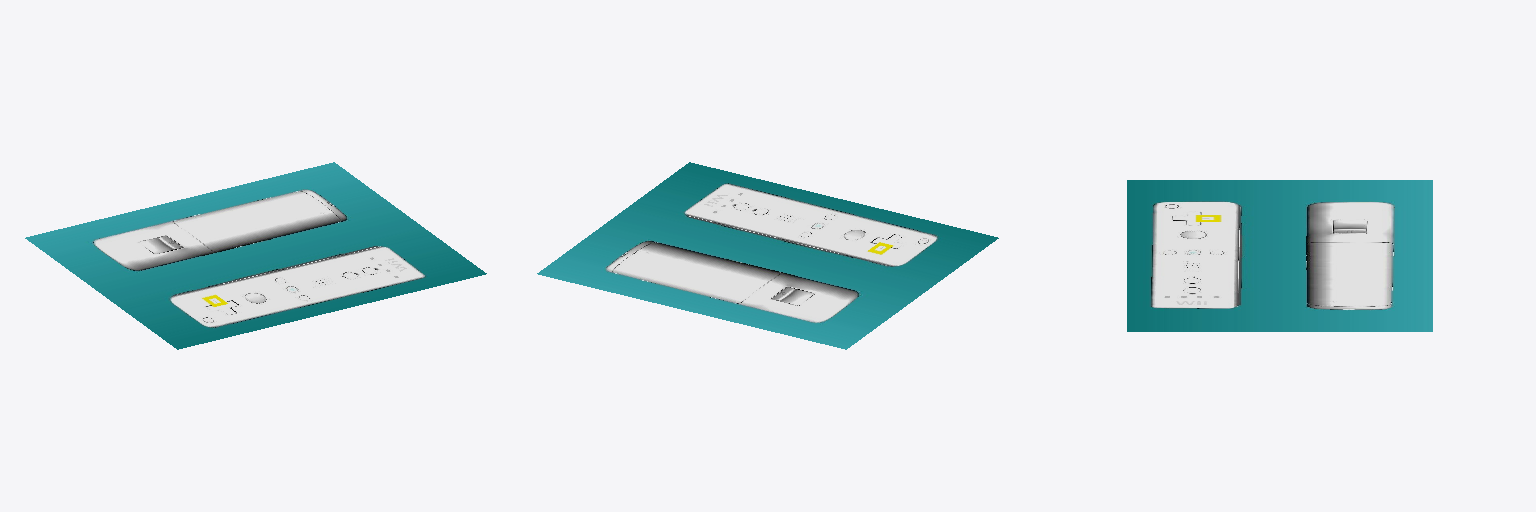
3 views of the same model, side by side, from view 1: azimuth 30°, elevation 25°; view 2: azimuth 150°, elevation 25°; view 3: azimuth 270°, elevation 25° (orthographic).
Visible parts, largest first — view 1: Plane002; view 2: Plane002; view 3: Plane002.
Boxes of the visible parts, x1,y1,x2,y2 form: Plane002: [25, 162, 486, 349]; Plane002: [537, 162, 998, 349]; Plane002: [1127, 180, 1432, 331].
Size of the model in its own units: 94.59 by 0 by 80.88.
Materials: 1 (1 with a texture image).